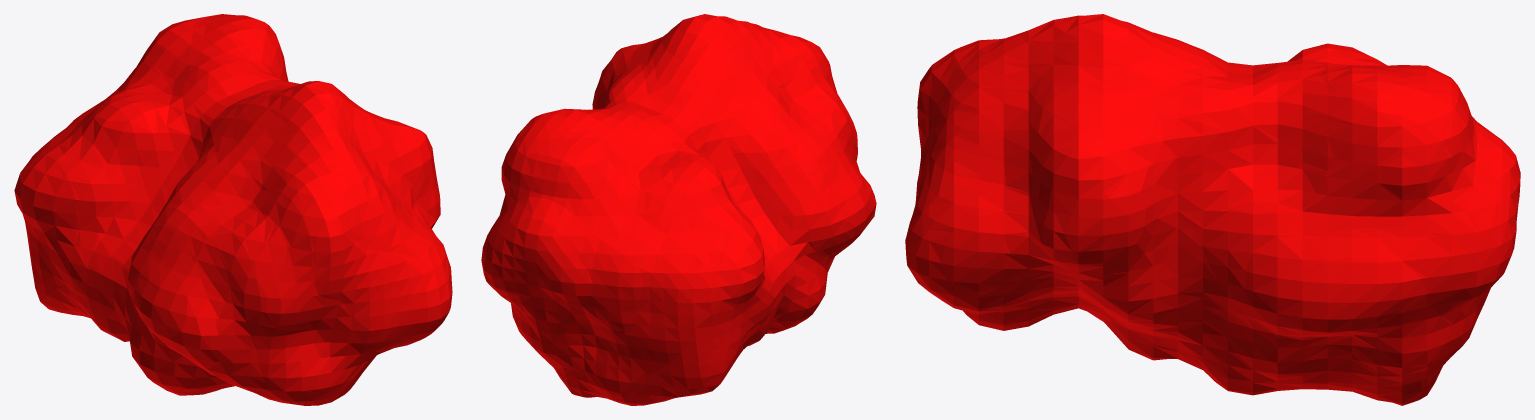
File: ptsN_coarse.dae
The picture shows the model from 3 angles, left to right: view 1: azimuth 30°, elevation 25°; view 2: azimuth 150°, elevation 25°; view 3: azimuth 270°, elevation 25°; orthographic projection. The views are drawn at different scales.
Parts seen in each view (by area): view 1: ptsN; view 2: ptsN; view 3: ptsN.
Boxes of the visible parts, x1,y1,x2,y2 form: ptsN: [14, 14, 452, 405]; ptsN: [481, 14, 876, 405]; ptsN: [905, 14, 1520, 405].
Bounding box in the file's own units: 43.64 × 46.25 × 66.79.
